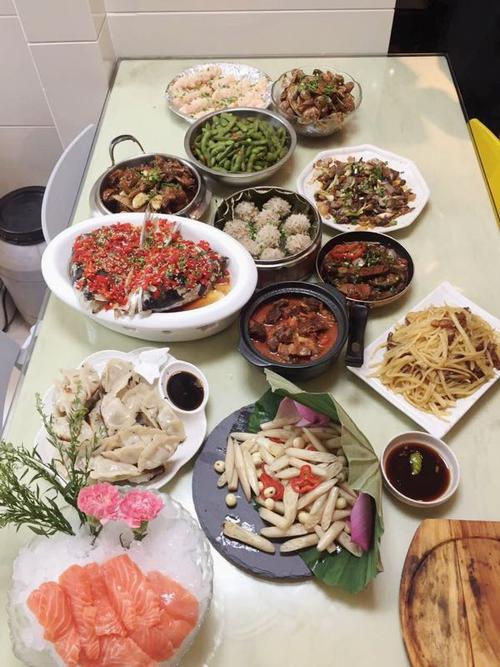food: (6, 470, 215, 650), (202, 385, 382, 572), (19, 352, 213, 500), (47, 200, 255, 337), (368, 291, 500, 423), (297, 134, 428, 235), (235, 273, 350, 376), (179, 97, 295, 184), (210, 180, 322, 270), (312, 224, 418, 309), (92, 144, 206, 221), (161, 54, 274, 124), (269, 56, 363, 138)
